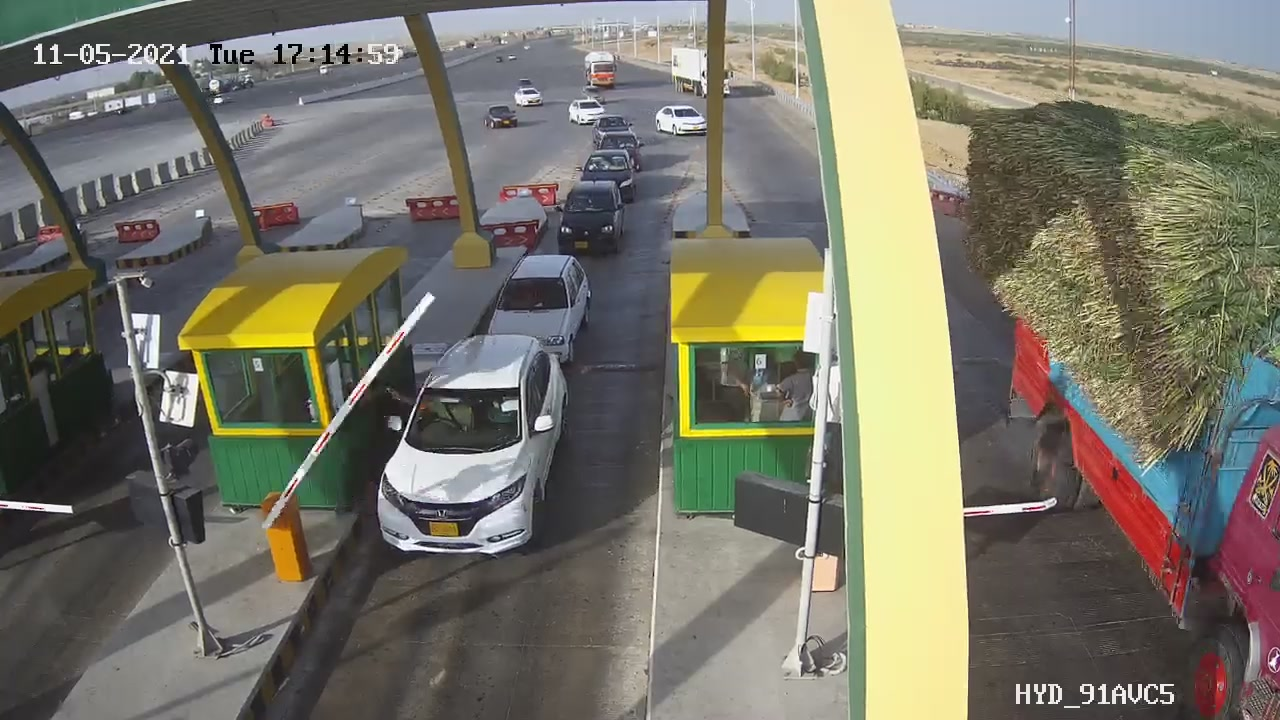F1: (361, 321, 578, 577)
